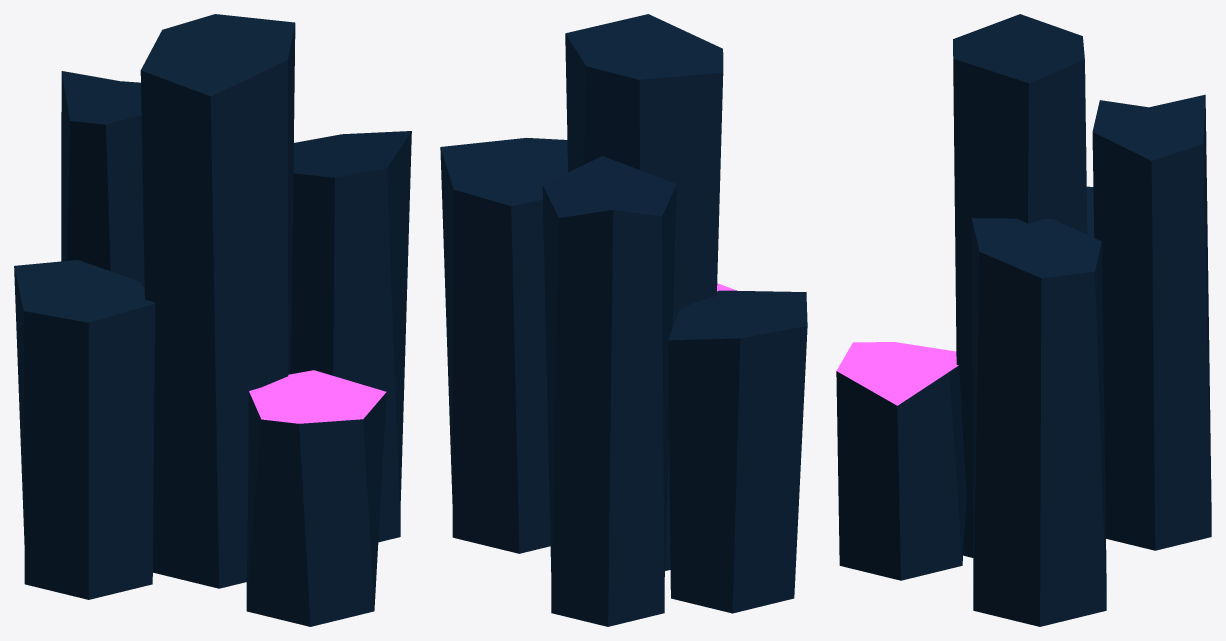
File: basalt.glb
The picture shows the model from 3 angles, left to right: view 1: azimuth 30°, elevation 25°; view 2: azimuth 150°, elevation 25°; view 3: azimuth 270°, elevation 25°; orthographic projection. The views are drawn at different scales.
Parts seen in each view (by area): view 1: C0; view 2: C0; view 3: C0.
Boxes of the visible parts, box(x1,y1,x2,y2) form: C0: box(14, 14, 411, 626); C0: box(440, 14, 807, 626); C0: box(836, 14, 1211, 626).
Bounding box in the file's own units: 1.44 × 1.84 × 1.27.
